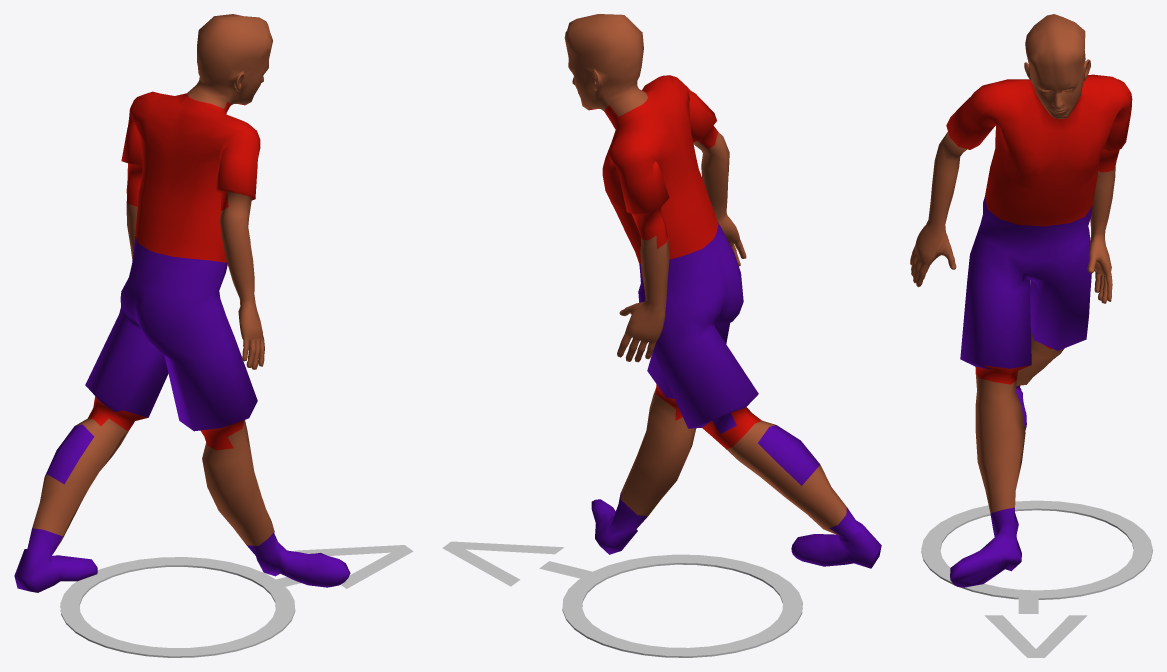
File: player_000034.obj
3 views of the same model, side by side, from view 1: azimuth 30°, elevation 25°; view 2: azimuth 150°, elevation 25°; view 3: azimuth 270°, elevation 25° (orthographic). The views are drawn at different scales.
Parts seen in each view (by area): view 1: soccerplayer.002_mesh.003, Circle, Text.001_Mesh.001; view 2: soccerplayer.002_mesh.003, Circle, Text.001_Mesh.001; view 3: soccerplayer.002_mesh.003, Circle, Text.001_Mesh.001.
Boxes of the visible parts, <box> form: soccerplayer.002_mesh.003: <box>14,14,350,592</box>; Circle: <box>60,557,295,657</box>; Text.001_Mesh.001: <box>271,545,413,588</box>; soccerplayer.002_mesh.003: <box>564,14,881,568</box>; Circle: <box>562,554,802,657</box>; Text.001_Mesh.001: <box>442,541,595,586</box>; soccerplayer.002_mesh.003: <box>910,14,1132,587</box>; Circle: <box>921,500,1152,599</box>; Text.001_Mesh.001: <box>984,592,1087,657</box>.
Bounding box in the file's own units: 2.17 × 2.91 × 1.14.
